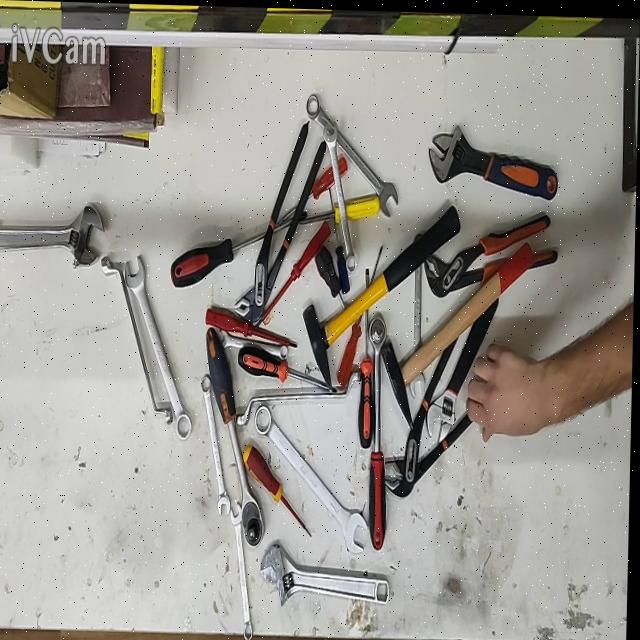Screwdriver: (171, 209, 308, 286), (256, 219, 332, 328), (339, 242, 384, 385), (245, 442, 313, 533), (276, 154, 349, 227), (240, 345, 339, 390), (207, 307, 299, 346), (360, 265, 376, 446), (300, 194, 381, 223), (330, 186, 351, 293), (316, 243, 347, 308)
